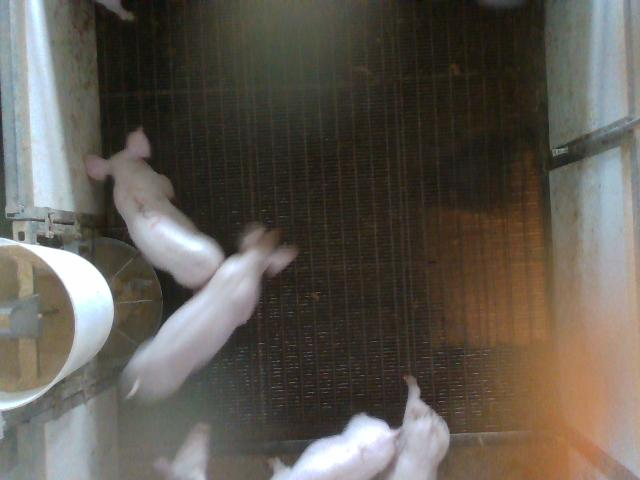pig-3: (85, 129, 224, 288)
